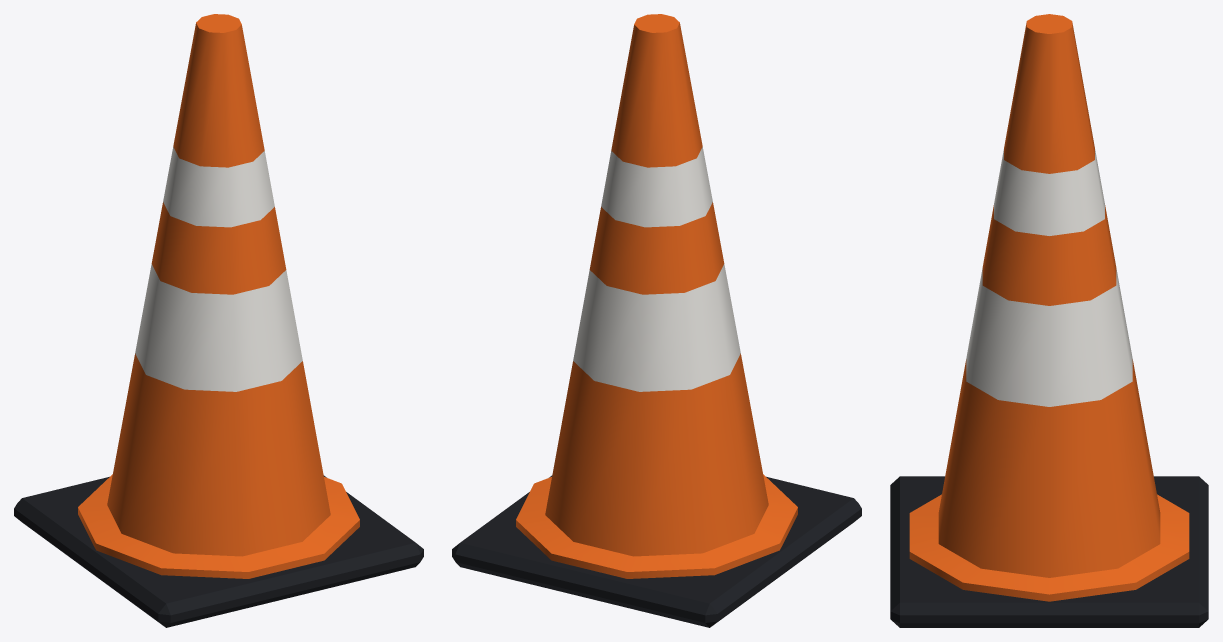
3 views of the same model, side by side, from view 1: azimuth 30°, elevation 25°; view 2: azimuth 150°, elevation 25°; view 3: azimuth 270°, elevation 25° (orthographic). The views are drawn at different scales.
Visible parts, largest first — view 1: cone; view 2: cone; view 3: cone.
Boxes of the visible parts, left/top/right/bottom form: cone: left=14, top=14, right=423, bottom=627; cone: left=452, top=14, right=861, bottom=627; cone: left=890, top=14, right=1208, bottom=627.
Size of the model in its own units: 0.4 by 0.75 by 0.4.
